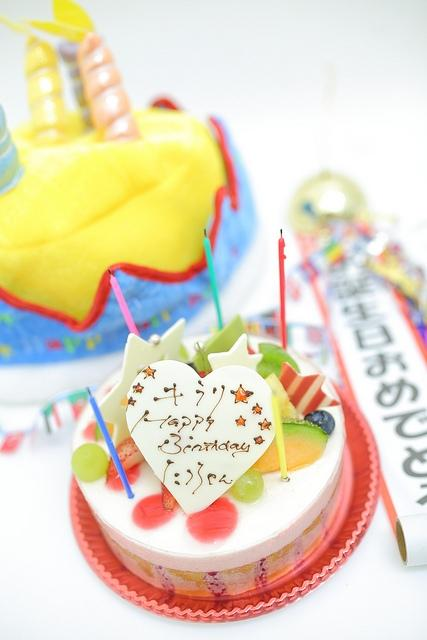blueberry: (304, 410, 335, 435), (188, 364, 196, 372)
strawberry: (106, 437, 145, 484), (162, 482, 176, 511)
